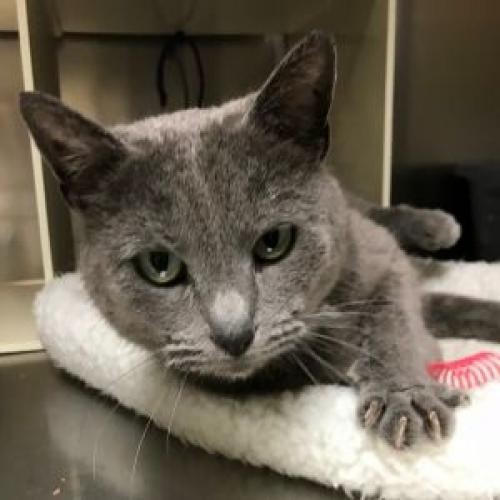rblue: (1, 23, 362, 388)
